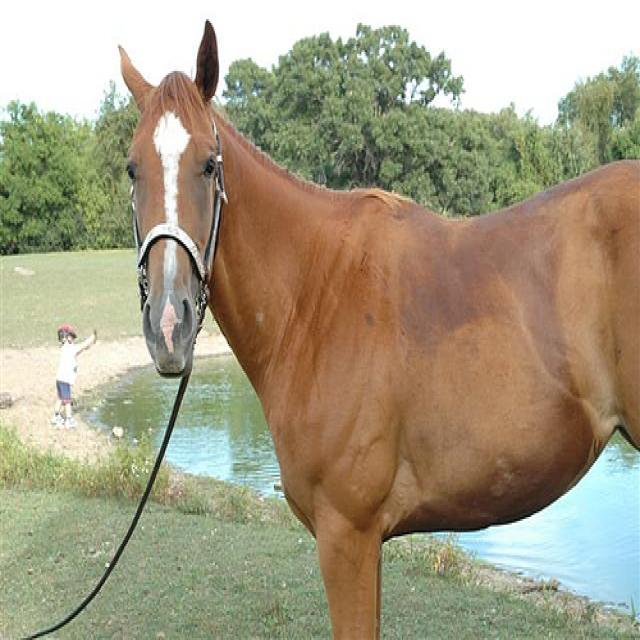horse: (120, 16, 640, 639)
person: (54, 320, 96, 428)
